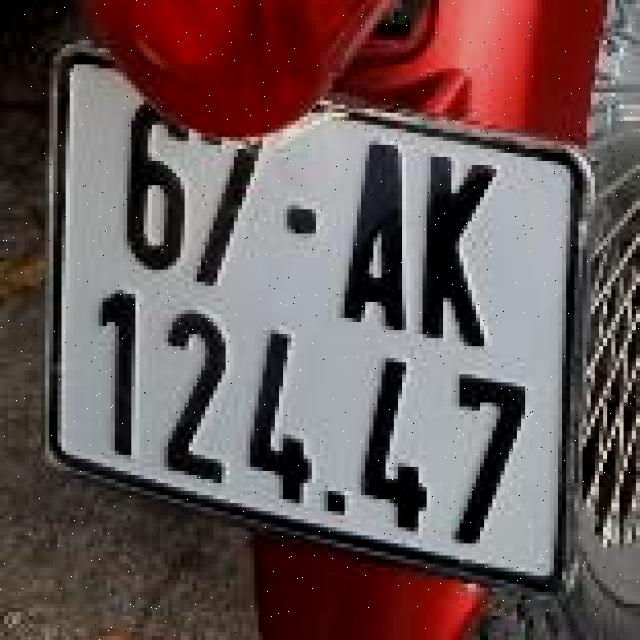1: (84, 284, 154, 461)
2: (166, 304, 236, 485)
4: (361, 352, 435, 534), (248, 322, 318, 507)
6: (119, 90, 193, 280)
7: (452, 364, 534, 554), (193, 113, 271, 294)
A: (336, 131, 414, 336)
K: (412, 143, 507, 352)
